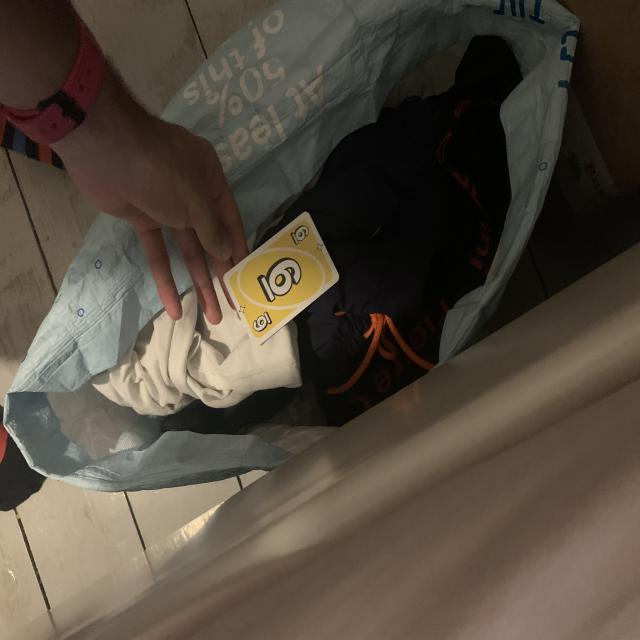lyellow-6: (286, 222, 314, 251)
